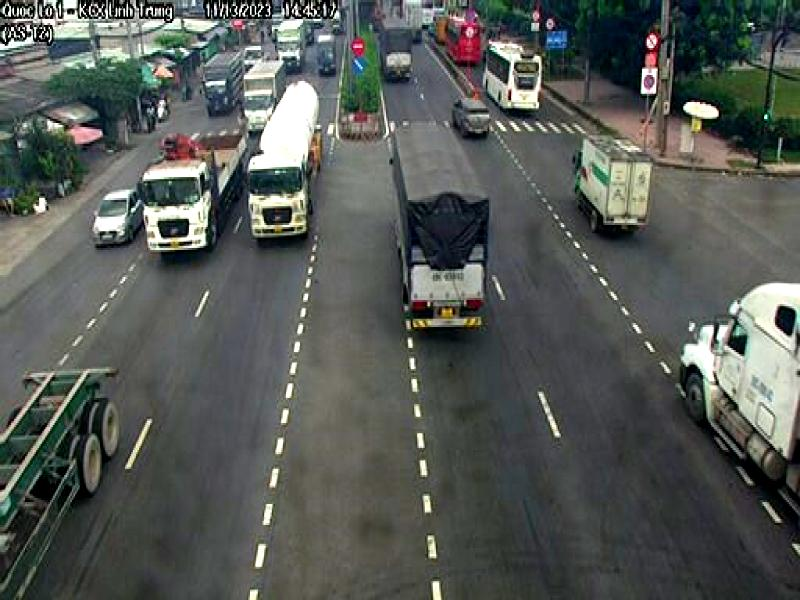truck: (677, 279, 800, 521), (137, 120, 249, 256)
